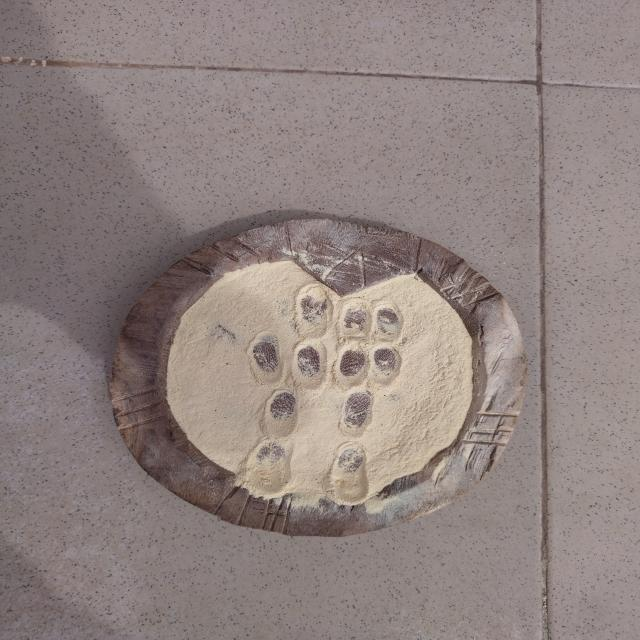double: (245, 336, 328, 394), (337, 299, 408, 344), (336, 346, 406, 388)
single: (290, 282, 334, 338), (334, 441, 372, 504), (260, 394, 304, 444), (248, 445, 292, 492), (336, 390, 374, 437)
